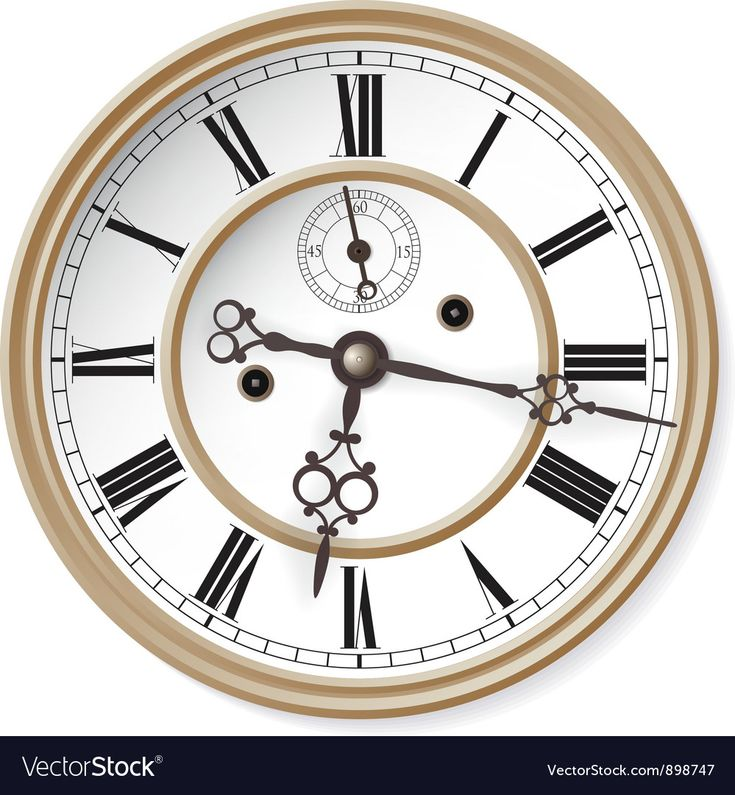clock: (22, 12, 719, 716)
